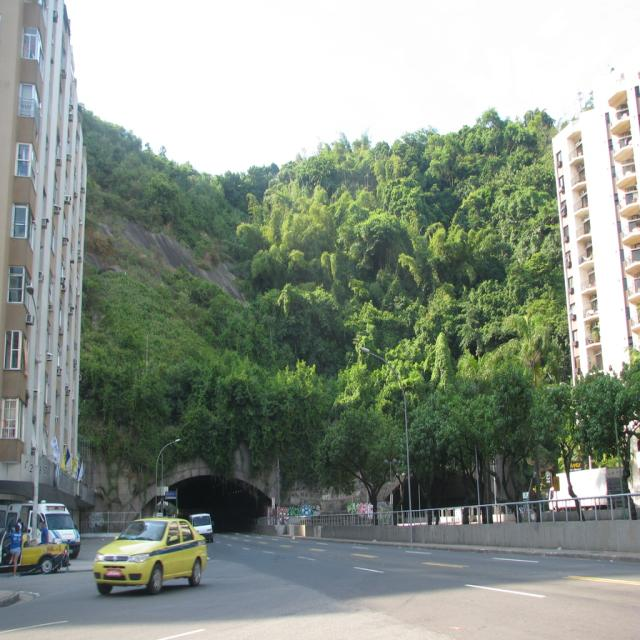car: (93, 516, 209, 598)
